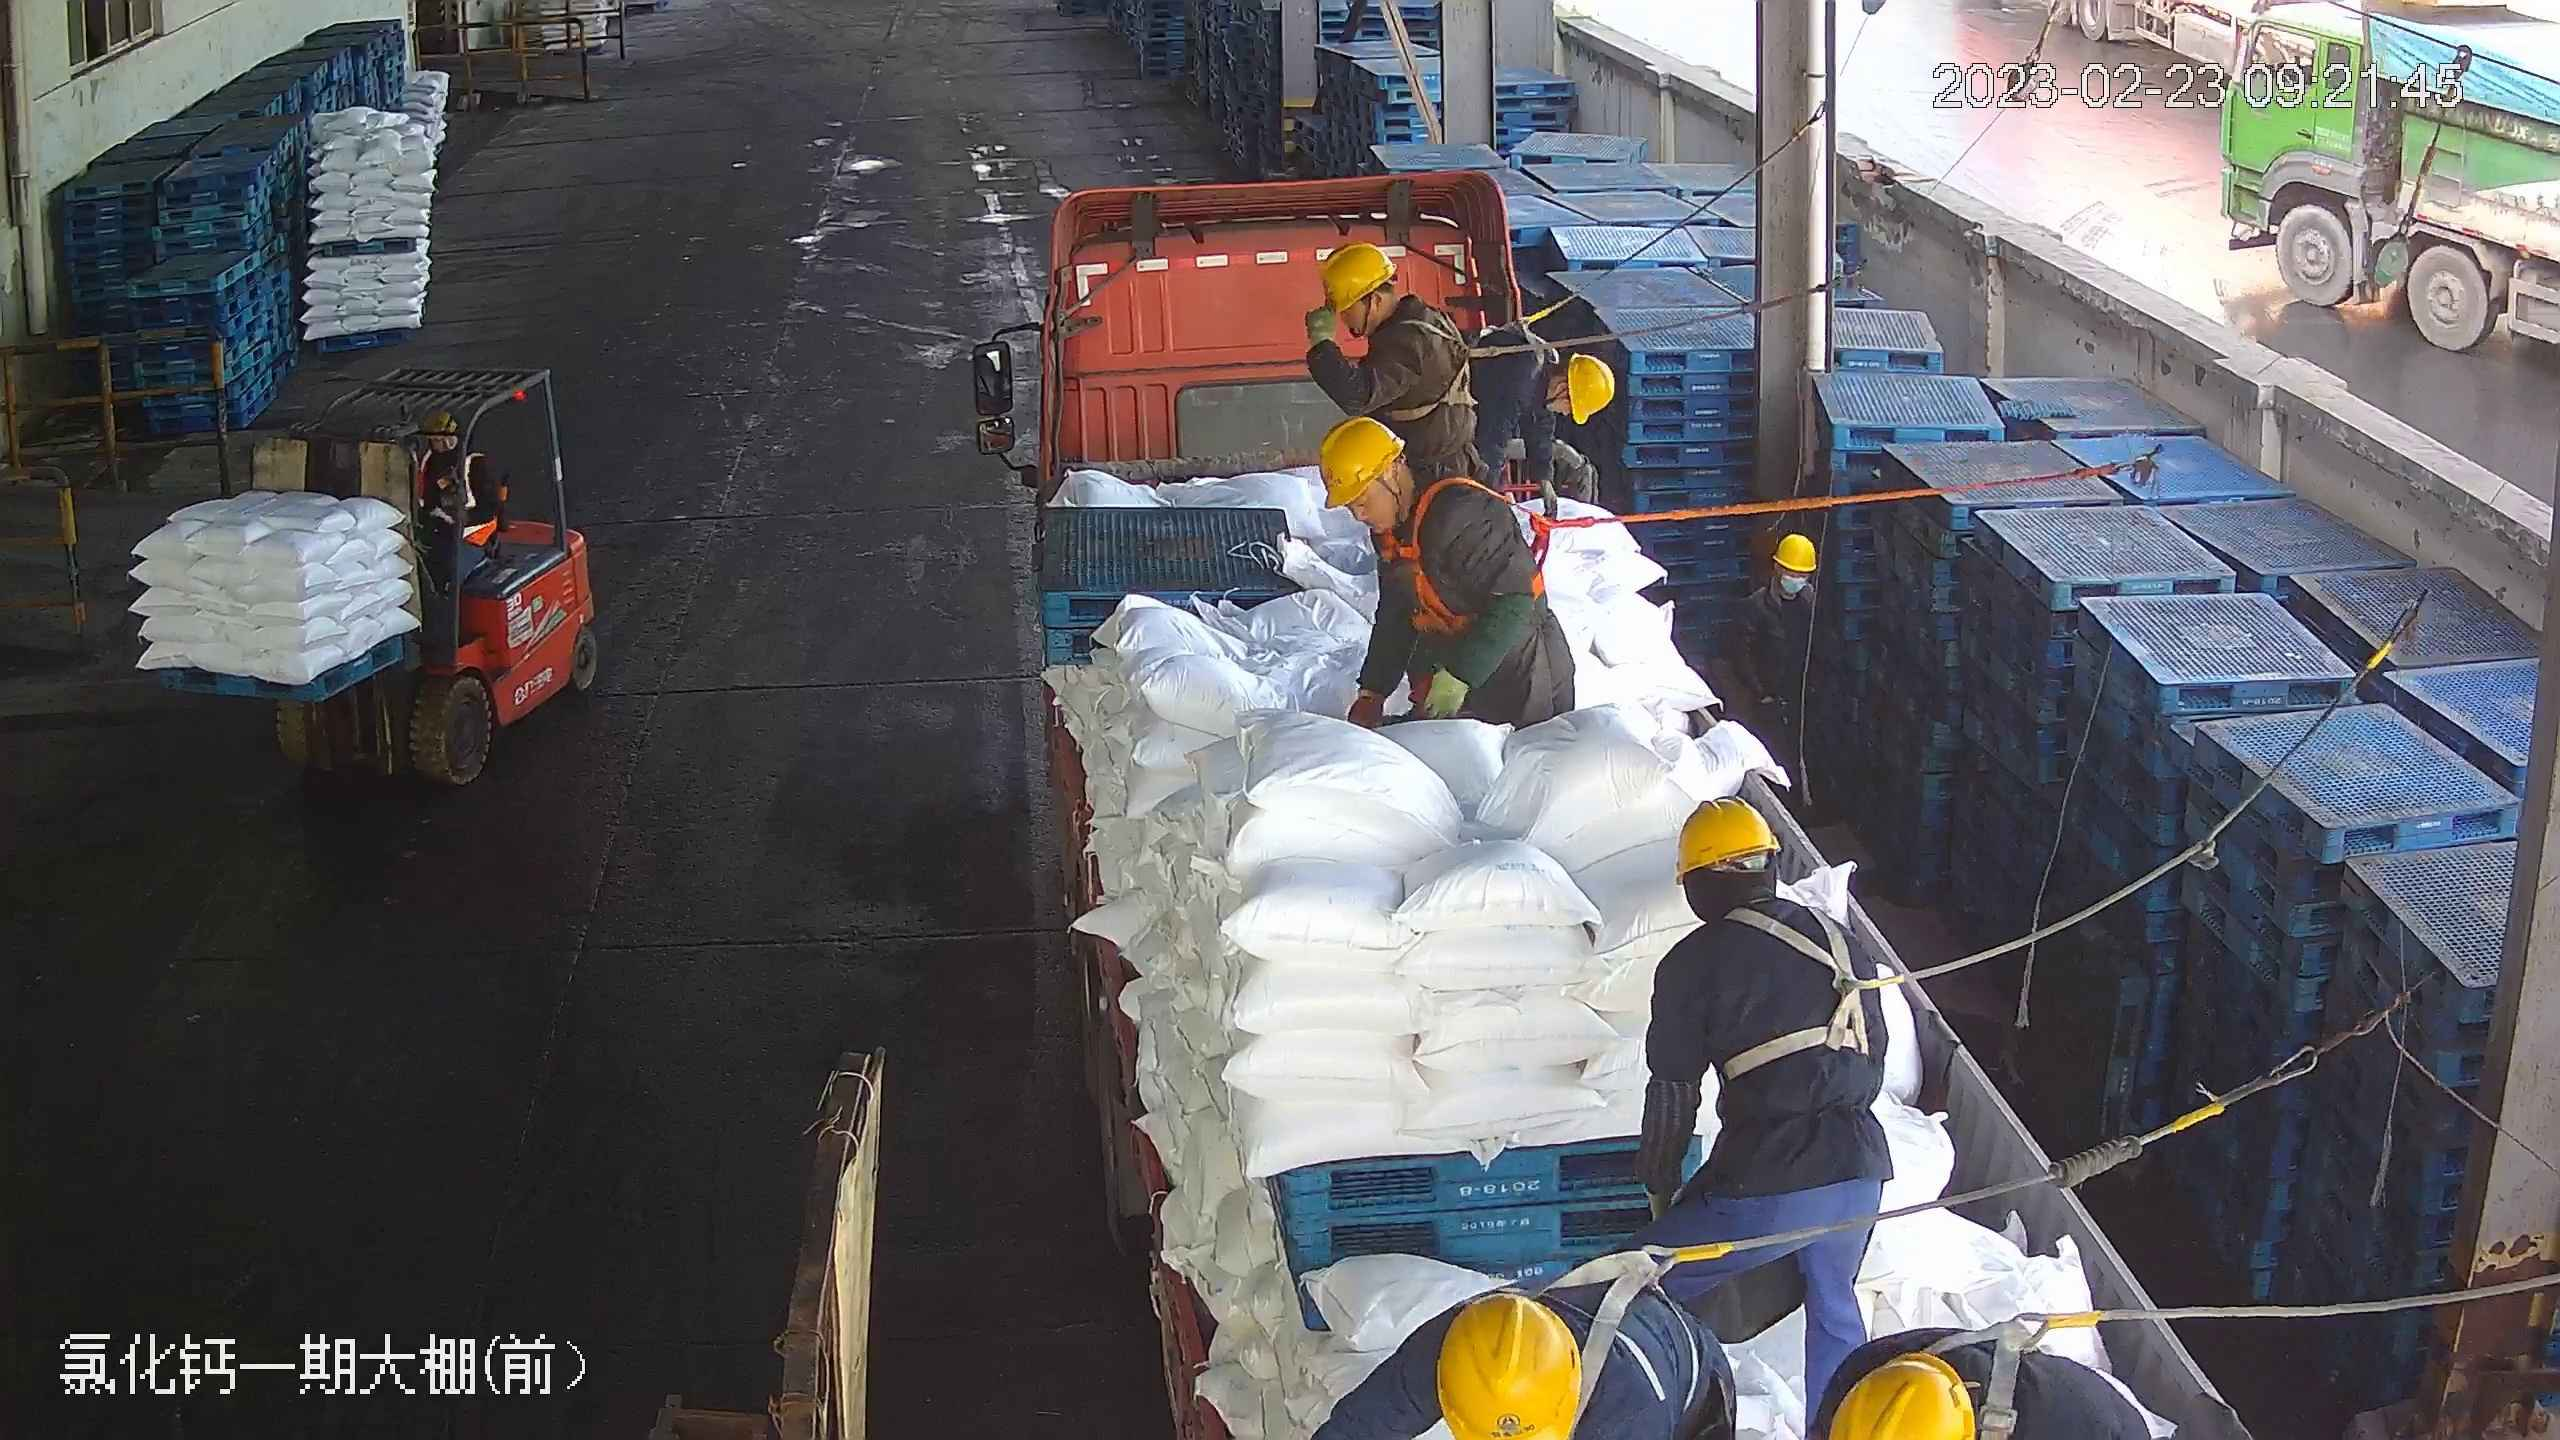belt: (1702, 895, 1879, 1087), (1380, 470, 1553, 652), (1548, 1229, 1714, 1412), (1939, 1302, 2088, 1414), (1391, 308, 1491, 417), (1474, 305, 1562, 373)
head: (1645, 791, 1873, 995), (1317, 412, 1510, 567), (1313, 240, 1468, 373), (1496, 342, 1618, 440), (1730, 529, 1827, 637)
helmet: (1431, 1289, 1590, 1440), (1833, 1344, 1973, 1440), (1666, 790, 1779, 877), (1310, 412, 1412, 507), (1314, 234, 1396, 314), (1563, 349, 1621, 424), (1768, 529, 1820, 572)
people: (1638, 796, 1895, 1422)
truck: (991, 161, 2235, 1440)
